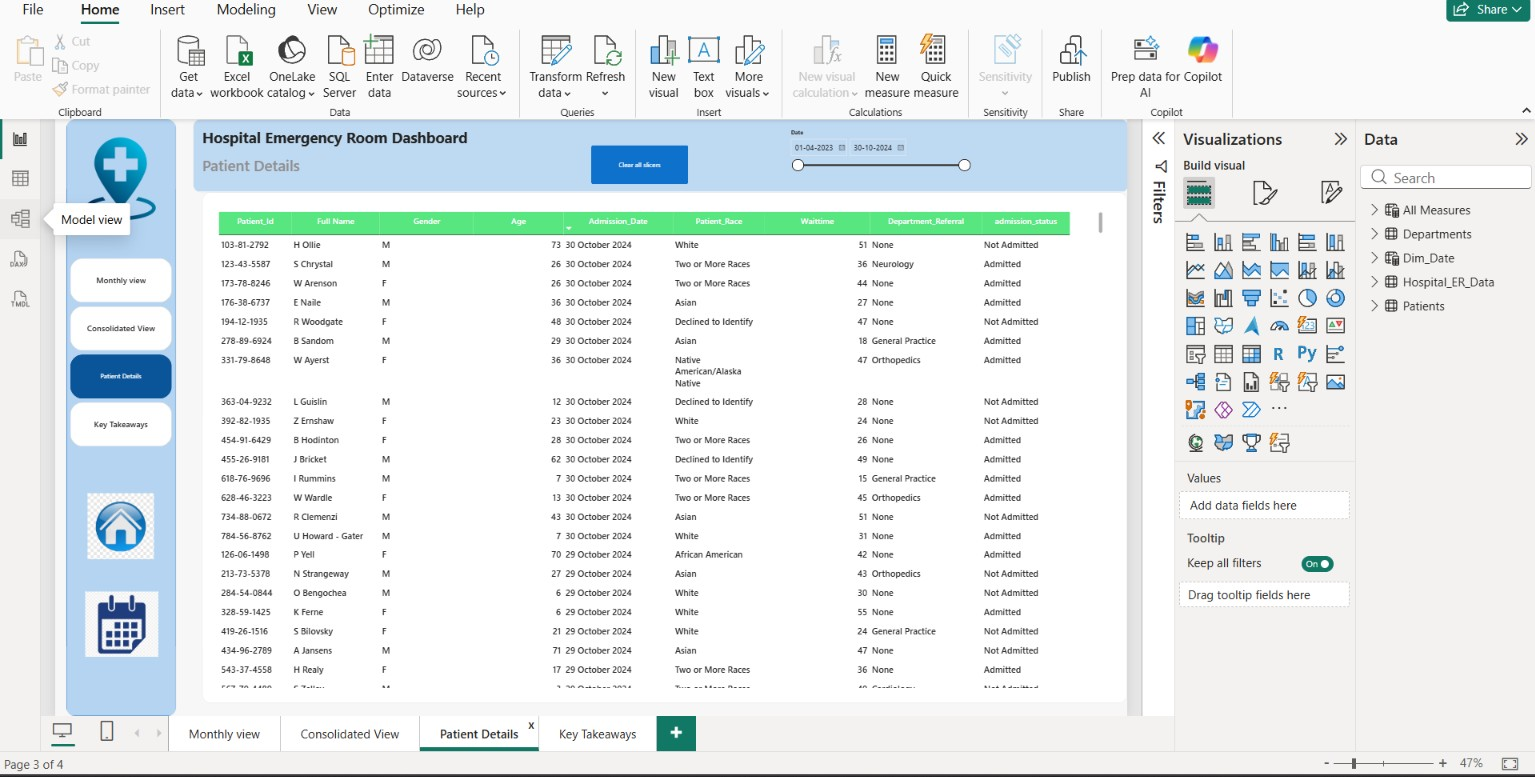

The dashboard page shown, as its layout file describes it:
{"tool":"powerbi","page":{"name":" Patient Details","canvas":[2300,1280],"ordinal":2},"visuals":[{"type":"shape","box":[296,0,2005.4,156.6],"z":1000},{"type":"shape","box":[23.6,0,235.9,1280.4],"z":2000},{"type":"textbox","box":[315.3,17.2,660.6,122.3],"z":3000},{"type":"shape","box":[315.3,156.6,1983.9,1096],"z":26000},{"type":"slicer","fields":{"Values":["Dim_Date.Date"]},"box":[1570,19.3,396.8,115.8],"z":30000},{"type":"tableEx","fields":{"Values":["Patients.Patient_Id","Patients.Full Name","Patients.Patient_Gender","Sum(Patients.Patient_Age)","Hospital_ER_Data.Patient_Admission_Date","Patients.Patient_Race","Sum(Hospital_ER_Data.Patient_Waittime)","Departments.Department_Referral","Hospital_ER_Data.admission_status"]},"box":[334.6,184.5,1928.2,1050.9],"z":31001},{"type":"image","box":[40.8,38.6,199.5,178],"z":31002},{"type":"pageNavigator","box":[32.2,298.1,218.8,407.5],"z":31003},{"type":"image","box":[62.2,802.1,156.6,141.6],"z":31004},{"type":"image","box":[64.3,1012.3,156.6,141.6],"z":31005},{"type":"actionButton","box":[1149.6,55.8,208,83.6],"z":31007}]}

Visuals, with their boxes on the page's 2300x1280 design canvas (x1, y1, x2, y2). These are canvas units, not pixel positions in the 1535x777 screenshot, which may show the page scaled, cropped or inside an application window:
shape: [296, 0, 2301, 157]
shape: [24, 0, 260, 1280]
textbox: [315, 17, 976, 140]
shape: [315, 157, 2299, 1253]
slicer - Dim_Date.Date: [1570, 19, 1967, 135]
tableEx - Patients.Patient_Id x Patients.Full Name: [335, 184, 2263, 1235]
image: [41, 39, 240, 217]
pageNavigator: [32, 298, 251, 706]
image: [62, 802, 219, 944]
image: [64, 1012, 221, 1154]
actionButton: [1150, 56, 1358, 139]
